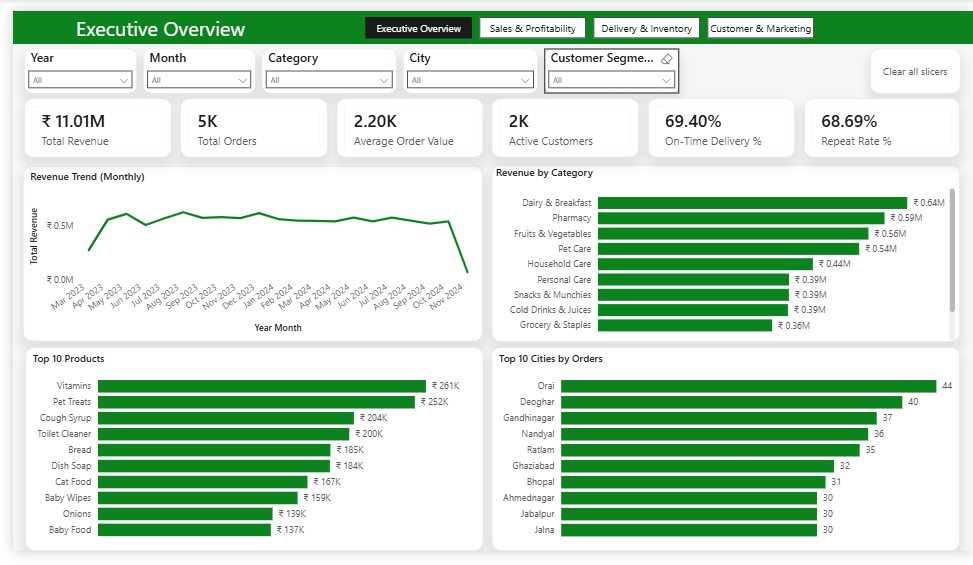

The dashboard page shown, as its layout file describes it:
{"tool":"powerbi","page":{"name":"Executive Overview","canvas":[1280,720],"ordinal":0},"visuals":[{"type":"lineChart","title":"Revenue Trend (Monthly)","fields":{"Category":["Date.Year Month"],"Y":["Measure Table.Total Revenue"]},"box":[13.1,206.2,613.1,233.8],"z":0},{"type":"clusteredBarChart","title":"Revenue by Category","fields":{"Category":["Products.category"],"Y":["Measure Table.Item Revenue"]},"box":[638.6,205.7,624.3,235.7],"z":1000},{"type":"clusteredBarChart","title":"Top 10 Products","fields":{"Category":["Products.product_name"],"Y":["Measure Table.Item Revenue"]},"box":[16.7,448.9,610,271.1],"z":2000},{"type":"clusteredBarChart","title":"Top 10 Cities by Orders","fields":{"Category":["Customers.area"],"Y":["Measure Table.Total Orders"]},"box":[638.6,448.6,624.3,271.4],"z":3000},{"type":"slicer","title":"Year","fields":{"Values":["Date.Year"]},"box":[15.7,50,150,60],"z":4000},{"type":"slicer","fields":{"Values":["Date.Month Name"]},"box":[174,50,150,60],"z":5000},{"type":"slicer","fields":{"Values":["Products.category"]},"box":[332,50,180,60],"z":6000},{"type":"slicer","title":"Filter by City","fields":{"Values":["Customers.area"]},"box":[520,50,180,60],"z":7000},{"type":"textbox","box":[0,0,1280,44],"z":8000},{"type":"textbox","box":[16,0,360,55.7],"z":9000},{"type":"pageNavigator","box":[470,8,600,28.6],"z":10000},{"type":"slicer","title":"Filter by City","fields":{"Values":["Customers.customer_segment"]},"box":[708,50,180,60],"z":11000},{"type":"actionButton","box":[1142.5,50,120,60],"z":12000},{"type":"cardVisual","fields":{"Data":["Measure Table.Total Revenue"]},"box":[15,117,196.2,78],"z":13000},{"type":"cardVisual","fields":{"Data":["Measure Table.Total Orders"]},"box":[222.5,117,196.2,78],"z":14000},{"type":"cardVisual","fields":{"Data":["Measure Table.Average Order Value"]},"box":[431.2,117,195,78],"z":15000},{"type":"cardVisual","fields":{"Data":["Measure Table.Active Customers"]},"box":[638.8,117,196.2,78],"z":16000},{"type":"cardVisual","fields":{"Data":["Measure Table.On-Time Delivery %"]},"box":[846.2,117,196.2,78],"z":17000},{"type":"cardVisual","fields":{"Data":["Measure Table.Repeat Rate %"]},"box":[1055.7,117.1,207.1,78.6],"z":18000}]}

Visuals, with their boxes on the page's 1280x720 design canvas (x1, y1, x2, y2). These are canvas units, not pixel positions in the 973x565 screenshot, which may show the page scaled, cropped or inside an application window:
"Revenue Trend (Monthly)" lineChart: [left=13, top=206, right=626, bottom=440]
"Revenue by Category" clusteredBarChart: [left=639, top=206, right=1263, bottom=441]
"Top 10 Products" clusteredBarChart: [left=17, top=449, right=627, bottom=720]
"Top 10 Cities by Orders" clusteredBarChart: [left=639, top=449, right=1263, bottom=720]
"Year" slicer: [left=16, top=50, right=166, bottom=110]
slicer - Date.Month Name: [left=174, top=50, right=324, bottom=110]
slicer - Products.category: [left=332, top=50, right=512, bottom=110]
"Filter by City" slicer: [left=520, top=50, right=700, bottom=110]
textbox: [left=0, top=0, right=1280, bottom=44]
textbox: [left=16, top=0, right=376, bottom=56]
pageNavigator: [left=470, top=8, right=1070, bottom=37]
"Filter by City" slicer: [left=708, top=50, right=888, bottom=110]
actionButton: [left=1142, top=50, right=1262, bottom=110]
cardVisual - Measure Table.Total Revenue: [left=15, top=117, right=211, bottom=195]
cardVisual - Measure Table.Total Orders: [left=222, top=117, right=419, bottom=195]
cardVisual - Measure Table.Average Order Value: [left=431, top=117, right=626, bottom=195]
cardVisual - Measure Table.Active Customers: [left=639, top=117, right=835, bottom=195]
cardVisual - Measure Table.On-Time Delivery %: [left=846, top=117, right=1042, bottom=195]
cardVisual - Measure Table.Repeat Rate %: [left=1056, top=117, right=1263, bottom=196]
